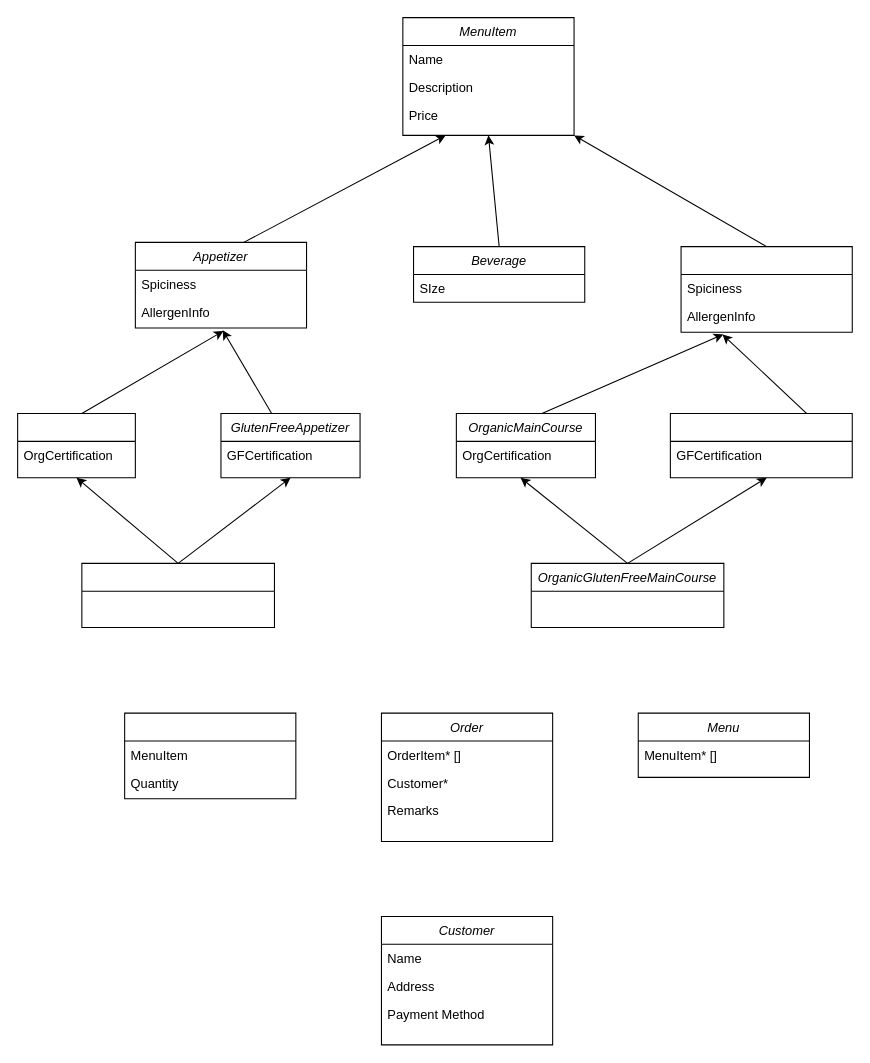
The diagram is 870 pixels wide and 1063 high, and some of its shapes have lost their labels. Each missing label, with the box of its shape:
GlutenFreeMainCourse: (669, 412, 852, 478)
MainCourse: (680, 246, 852, 332)
OrderItem: (124, 712, 296, 799)
OrganicAppetizer: (17, 412, 135, 478)
OrganicGlutenFreeAppetizer: (81, 562, 274, 628)
